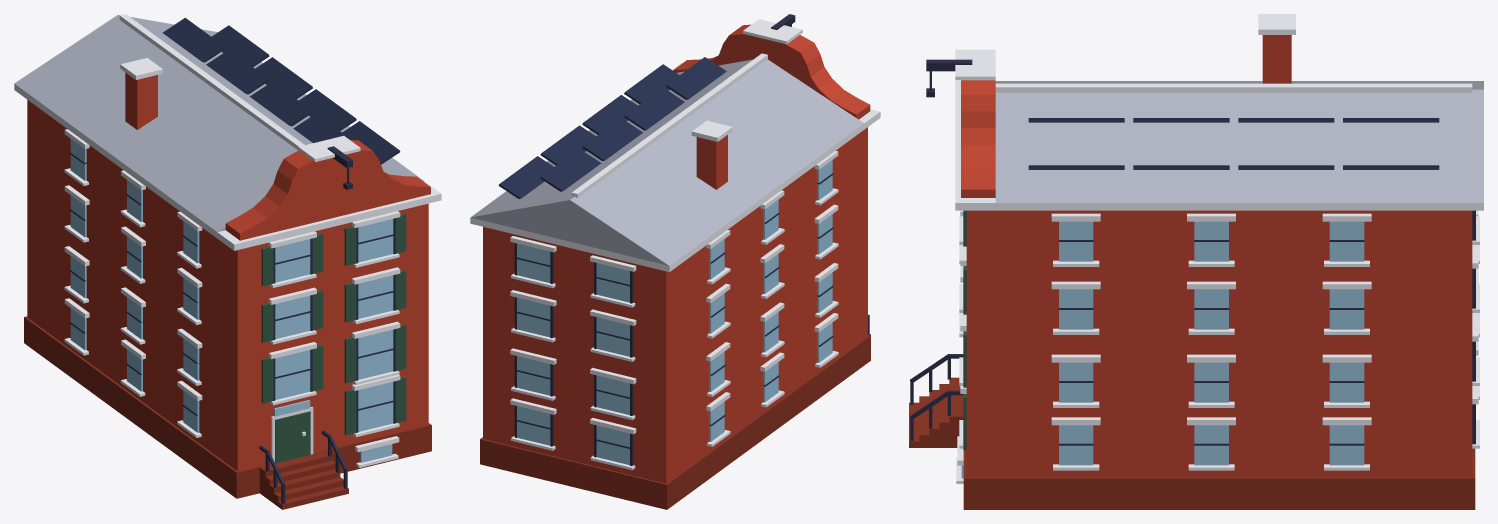
File: house-1x2-4f-dutch-a-solar.glb
3 views of the same model, side by side, from view 1: azimuth 30°, elevation 25°; view 2: azimuth 150°, elevation 25°; view 3: azimuth 270°, elevation 25° (orthographic). The views are drawn at different scales.
Parts seen in each view (by area): view 1: house-1x2-4f-dutch-a-solar; view 2: house-1x2-4f-dutch-a-solar; view 3: house-1x2-4f-dutch-a-solar.
Boxes of the visible parts, x1,y1,x2,y2 form: house-1x2-4f-dutch-a-solar: (14,14,441,509); house-1x2-4f-dutch-a-solar: (470,14,880,509); house-1x2-4f-dutch-a-solar: (909,14,1483,509).
Size of the model in its own units: 1 by 1.51 by 2.
1 material, 1 textured.
